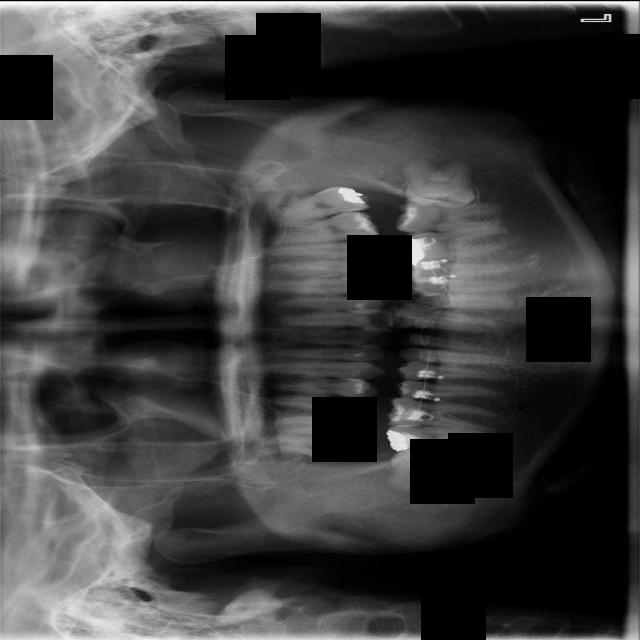52: (395, 194, 443, 234), (402, 228, 447, 266), (332, 209, 378, 240), (386, 424, 429, 454), (323, 185, 369, 211), (344, 255, 390, 280), (325, 412, 366, 439), (313, 439, 361, 462), (388, 397, 426, 425), (340, 376, 381, 400), (396, 375, 429, 401), (343, 343, 384, 360), (350, 295, 384, 314)
73: (622, 9, 628, 16)
BioHorizons Implant: (270, 179, 371, 226)
Biomet 3i Implant: (402, 153, 477, 208)
Blue Sky Bio Implant: (395, 194, 501, 231)
Caries: (253, 431, 361, 463)
Implant: (385, 420, 497, 455)
Keystone Dental Implant: (388, 444, 461, 491)
